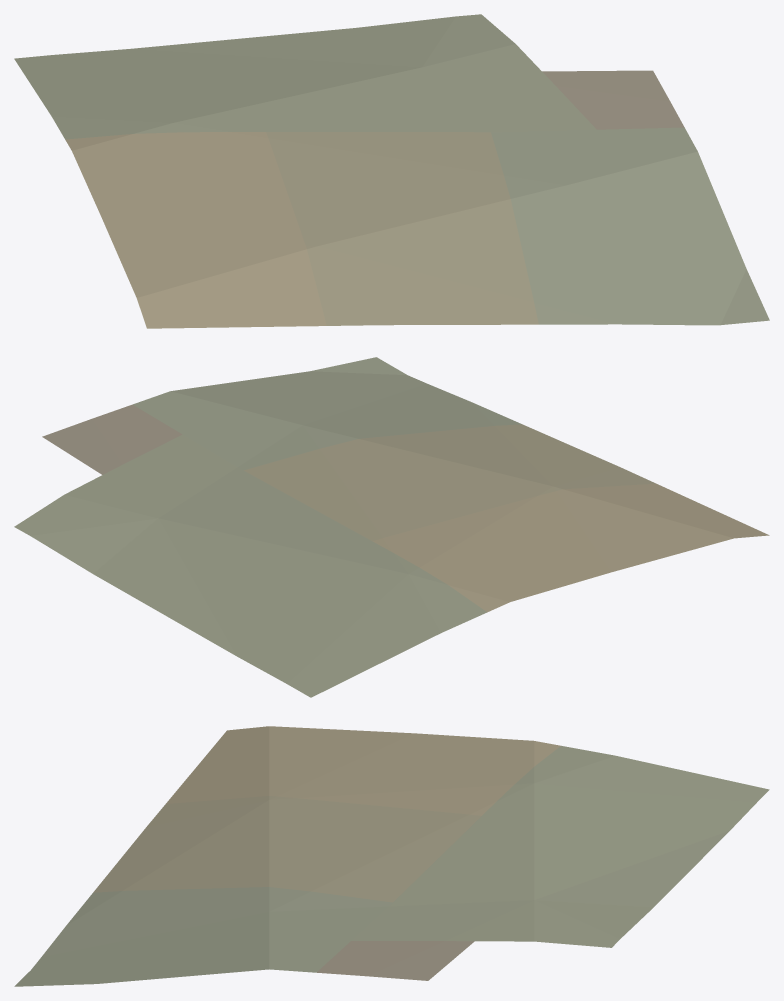
File: farm_1_19_soil.glb
3 views of the same model, one above another, from view 1: azimuth 30°, elevation 25°; view 2: azimuth 150°, elevation 25°; view 3: azimuth 270°, elevation 25° (orthographic). The views are drawn at different scales.
Visible parts, largest first — view 1: geometry_0; view 2: geometry_0; view 3: geometry_0.
Boxes of the visible parts, box(x1,y1,x2,y2) form: geometry_0: box(14, 14, 769, 328); geometry_0: box(14, 357, 769, 697); geometry_0: box(14, 726, 769, 986).
Size of the model in its own units: 197 by 21.16 by 228.
